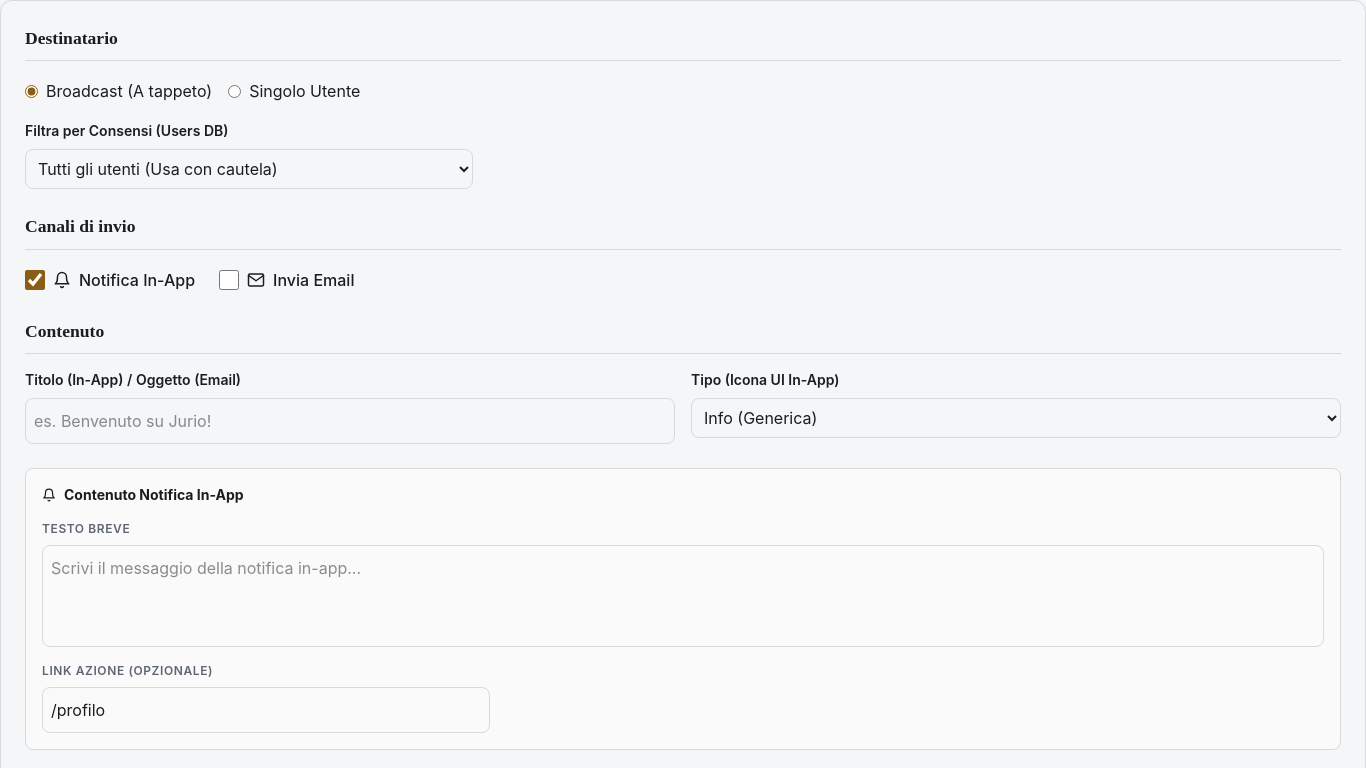
AdminNotificationsSection Component Suite › commuta la modalità di destinazione tra broadcast e singolo utente aggiornando i relativi input
Click the radio button labelled "Singolo Utente" at coordinates (235, 91), box [228,85,241,98]
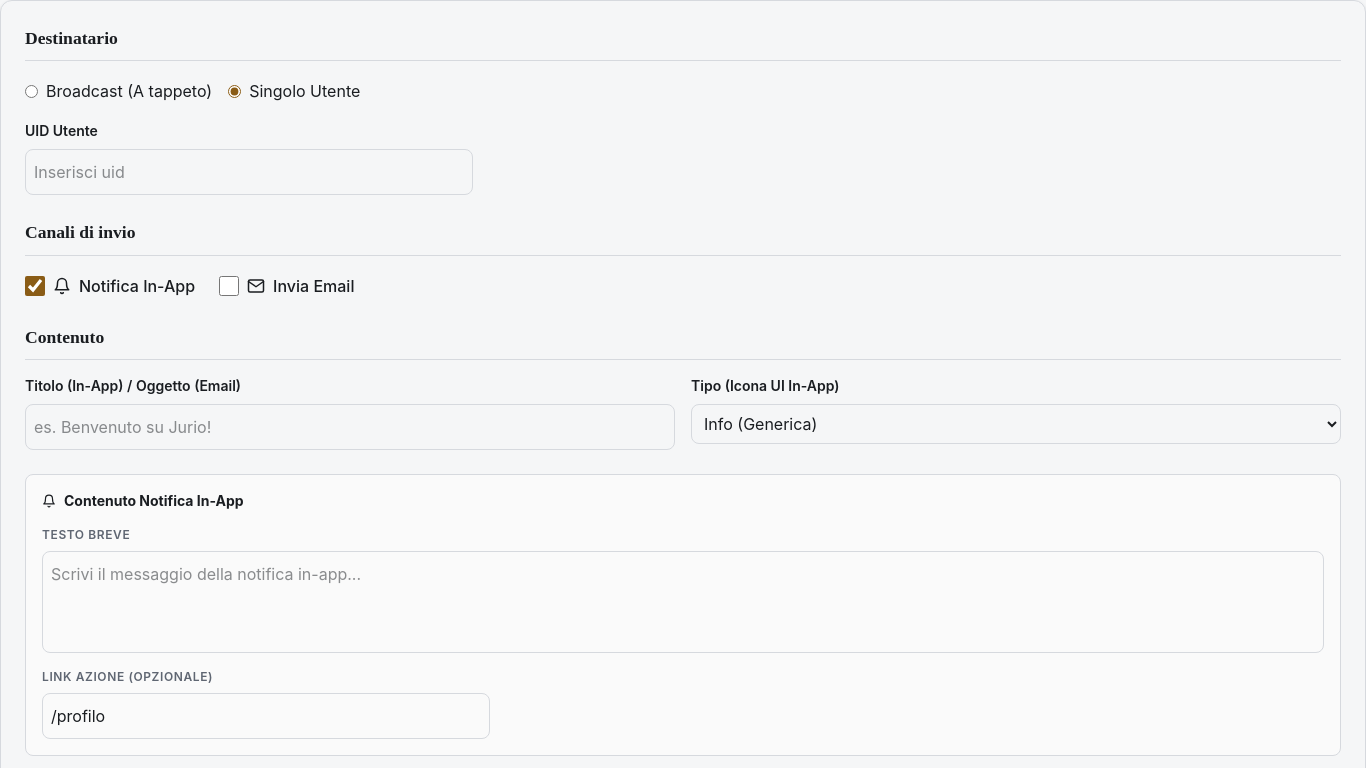
Expected: the radio button labelled "Singolo Utente" is checked, [228,85,241,98]
Expected: the text "Filtra per Consensi (Users DB)" is gone
Expected: the field with placeholder "Inserisci uid" is shown
Type "usr_mock_123" into the field with placeholder "Inserisci uid" at coordinates (249, 172), box [25,149,473,195]
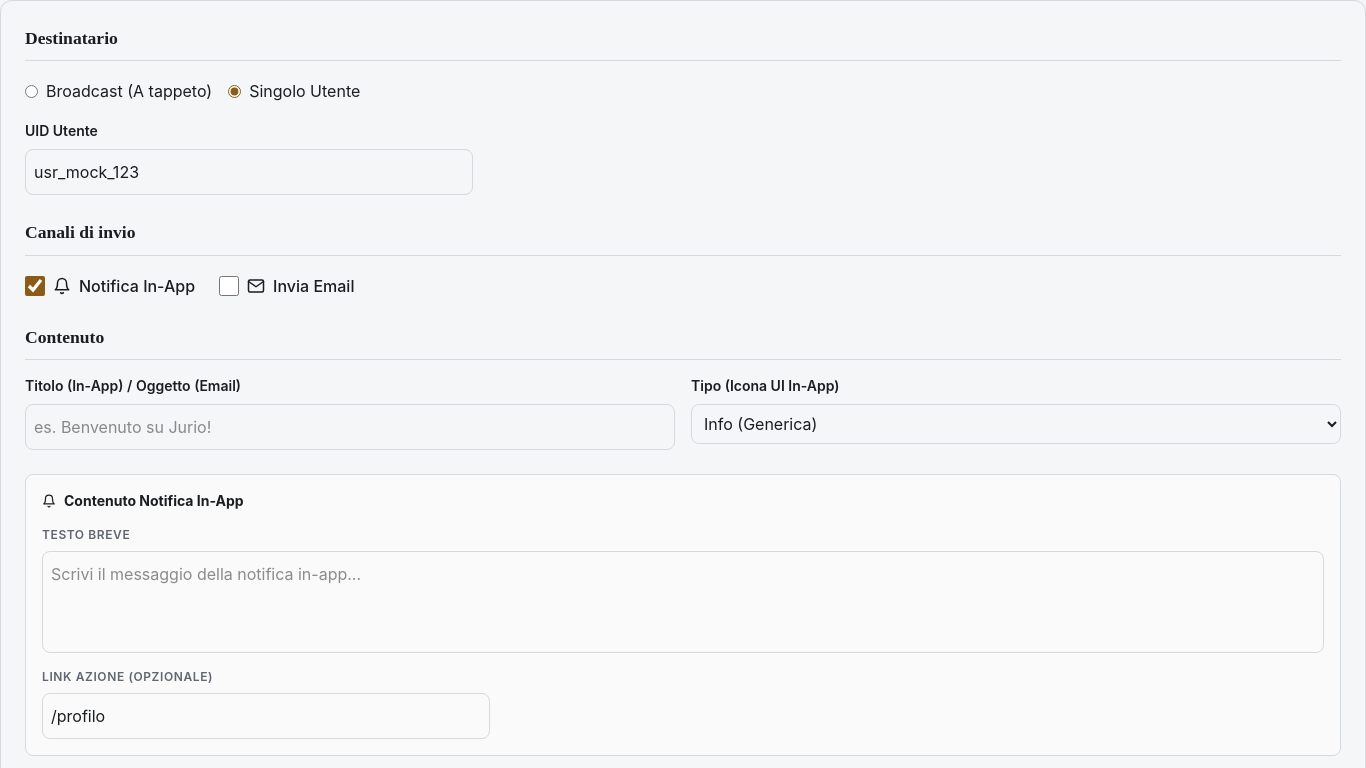
Click the radio button labelled "Broadcast (A tappeto)" at coordinates (32, 91), box [25,85,38,98]
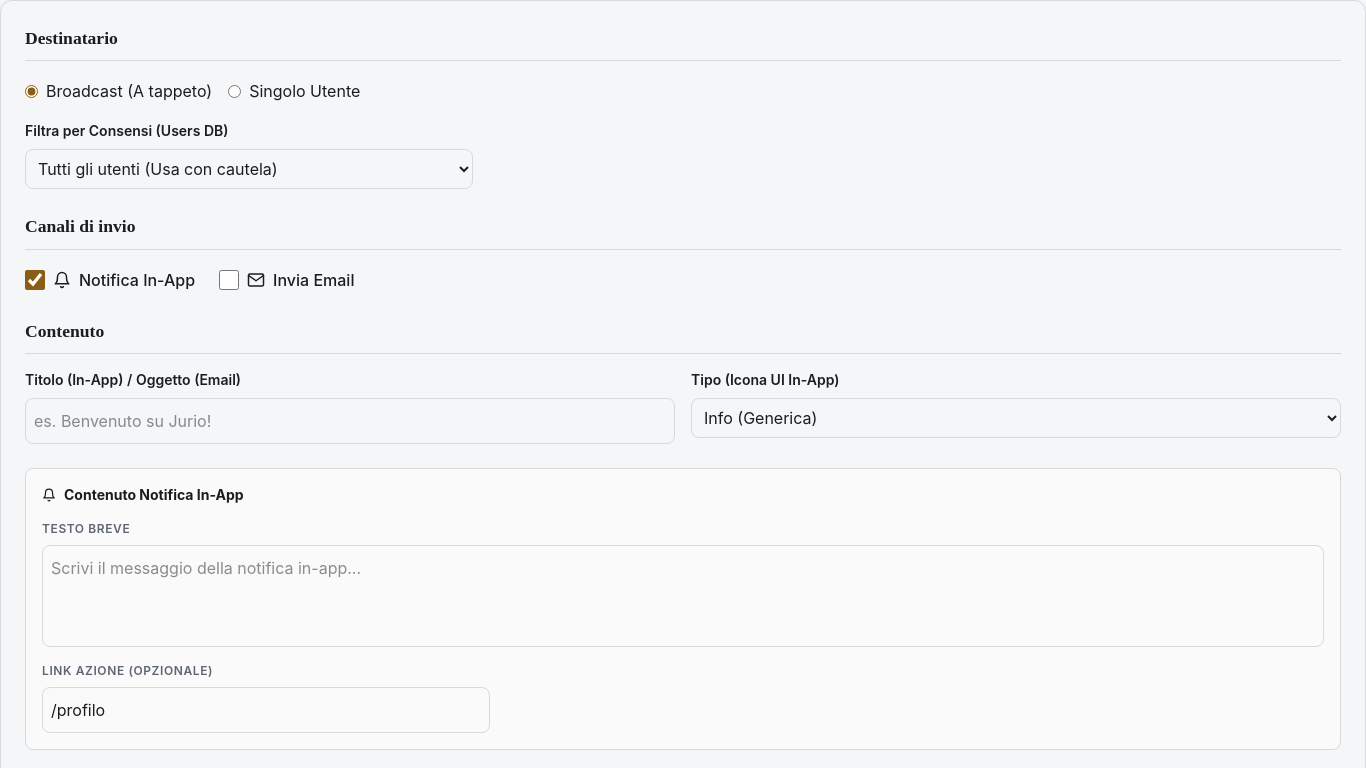
Expected: the radio button labelled "Broadcast (A tappeto)" is checked, [25,85,38,98]
Expected: the text "Filtra per Consensi (Users DB)" is shown, [25,122,228,139]
